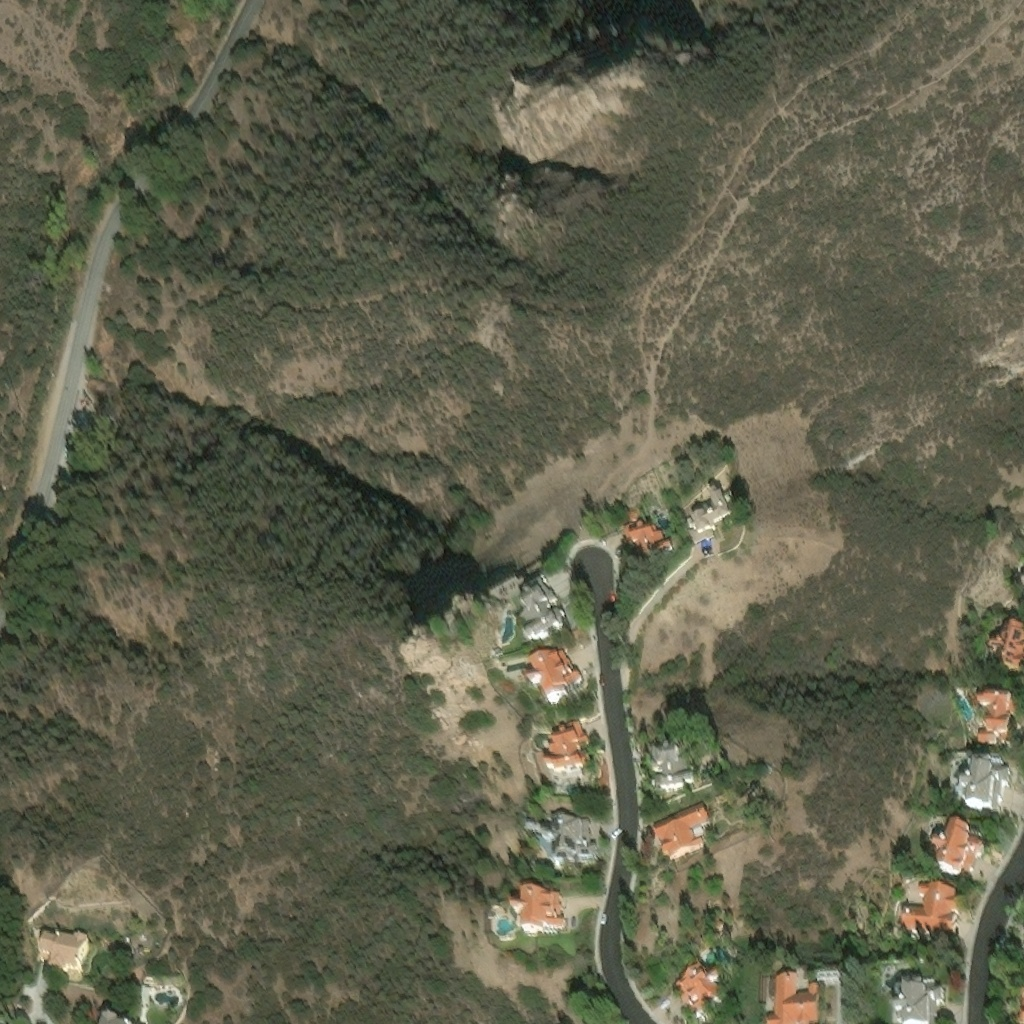0 no-damage: (651, 800, 712, 859), (524, 642, 582, 703), (953, 758, 1016, 814), (931, 820, 987, 881), (900, 886, 961, 940), (671, 963, 729, 1019), (518, 575, 567, 641), (541, 711, 588, 775), (685, 485, 742, 537), (534, 812, 594, 861), (512, 887, 566, 937), (620, 519, 675, 566), (767, 976, 822, 1023), (973, 694, 1020, 748), (648, 733, 692, 789), (981, 621, 1023, 679), (895, 984, 946, 1023), (41, 934, 89, 975), (523, 819, 536, 833), (628, 508, 639, 519), (103, 1016, 119, 1023)
